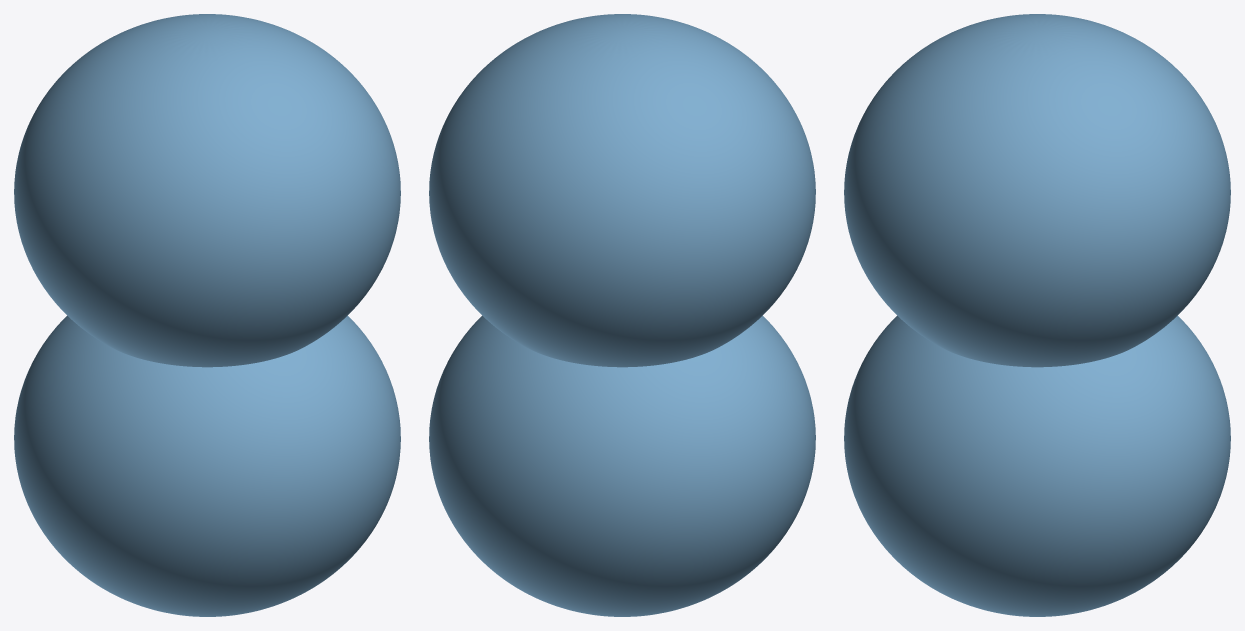
The model's file is celula_telofase.glb.
The picture shows the model from 3 angles, left to right: view 1: azimuth 30°, elevation 25°; view 2: azimuth 150°, elevation 25°; view 3: azimuth 270°, elevation 25°; orthographic projection.
Parts seen in each view (by area): view 1: Membrana_Hija_Sup, Membrana_Hija_Inf; view 2: Membrana_Hija_Sup, Membrana_Hija_Inf; view 3: Membrana_Hija_Sup, Membrana_Hija_Inf.
Part boxes in pixels (bbox=[...]): Membrana_Hija_Sup: bbox=[14, 14, 400, 367]; Membrana_Hija_Inf: bbox=[14, 315, 400, 616]; Membrana_Hija_Sup: bbox=[429, 14, 815, 367]; Membrana_Hija_Inf: bbox=[429, 315, 815, 616]; Membrana_Hija_Sup: bbox=[844, 14, 1230, 367]; Membrana_Hija_Inf: bbox=[844, 315, 1230, 616].
Bounding box in the file's own units: 12.83 × 20.67 × 12.83.
